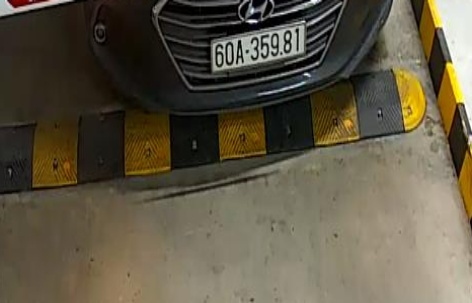plate: (209, 23, 312, 81)
